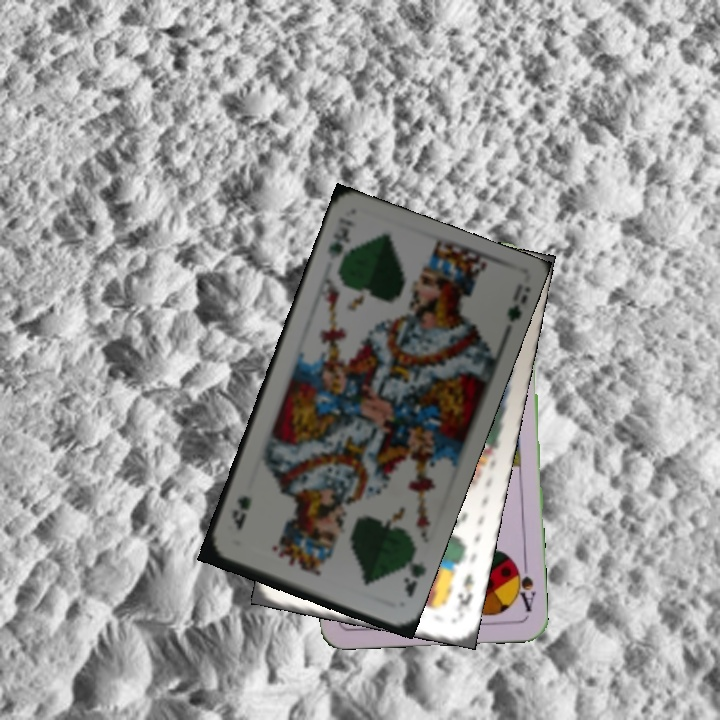EK: (453, 570, 477, 609)
GK: (399, 556, 429, 600), (323, 222, 353, 262)
SA: (510, 557, 539, 615)
